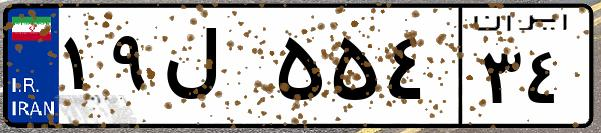1: (57, 26, 110, 100)
3: (475, 38, 525, 113)
4: (385, 28, 445, 110), (525, 38, 570, 115)
5: (270, 28, 330, 110), (330, 28, 385, 110)
9: (110, 28, 158, 98)
ل: (158, 20, 270, 120)
